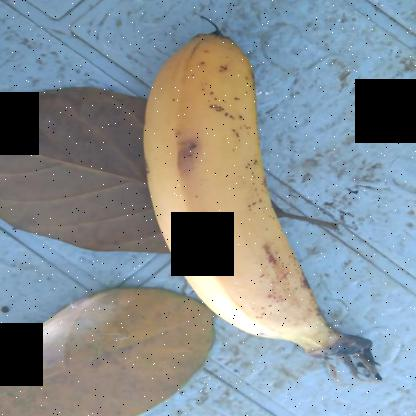ripe: (110, 10, 345, 356)
